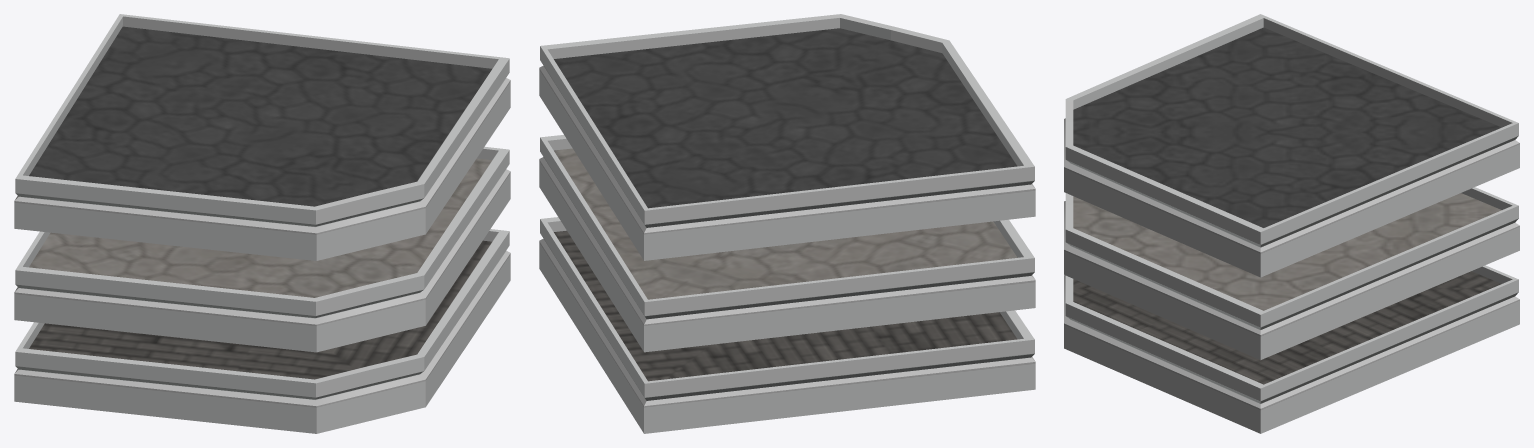
File: ModularBuilding_Roofs_01.fbx
3 renders of one model, left to right at view 1: azimuth 30°, elevation 25°; view 2: azimuth 150°, elevation 25°; view 3: azimuth 270°, elevation 25°, orthographic. The views are drawn at different scales.
Parts seen in each view (by area): view 1: Roof_1_3, Roof_1_2, Roof_1_1; view 2: Roof_1_3, Roof_1_2, Roof_1_1; view 3: Roof_1_3, Roof_1_2, Roof_1_1.
Boxes of the visible parts, x1,y1,x2,y2 form: Roof_1_3: [14, 14, 510, 260]; Roof_1_2: [14, 146, 510, 352]; Roof_1_1: [14, 229, 510, 433]; Roof_1_3: [539, 14, 1035, 260]; Roof_1_2: [539, 135, 1035, 352]; Roof_1_1: [539, 217, 1035, 433]; Roof_1_3: [1064, 14, 1519, 277]; Roof_1_2: [1064, 187, 1519, 359]; Roof_1_1: [1064, 265, 1519, 433].
Bounding box in the file's own units: 98.06 × 42.11 × 86.22.
